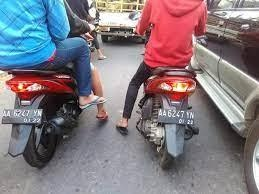plate: (3, 108, 43, 124), (158, 110, 196, 126)
